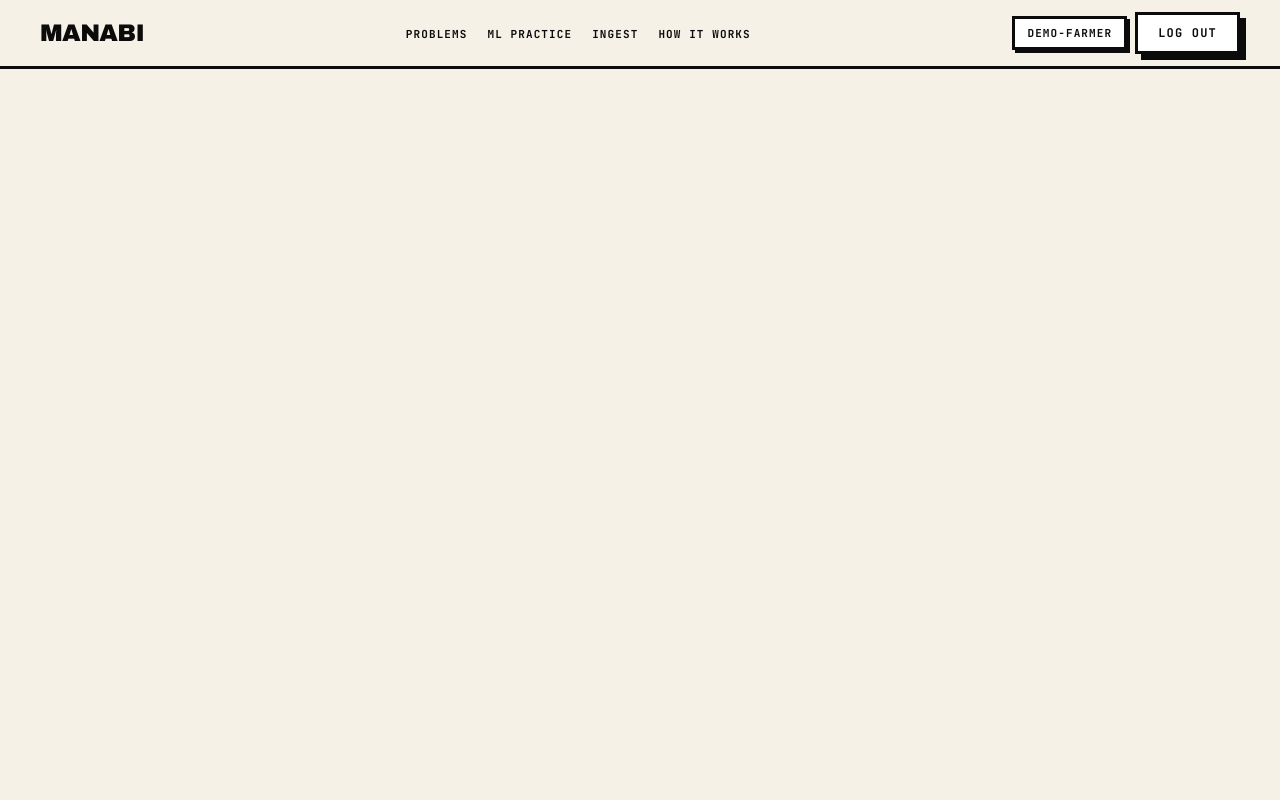
Test: Nav › shows an error toast when logout fails
Click the button "Log out": (1188, 33) [1135,12,1240,54]
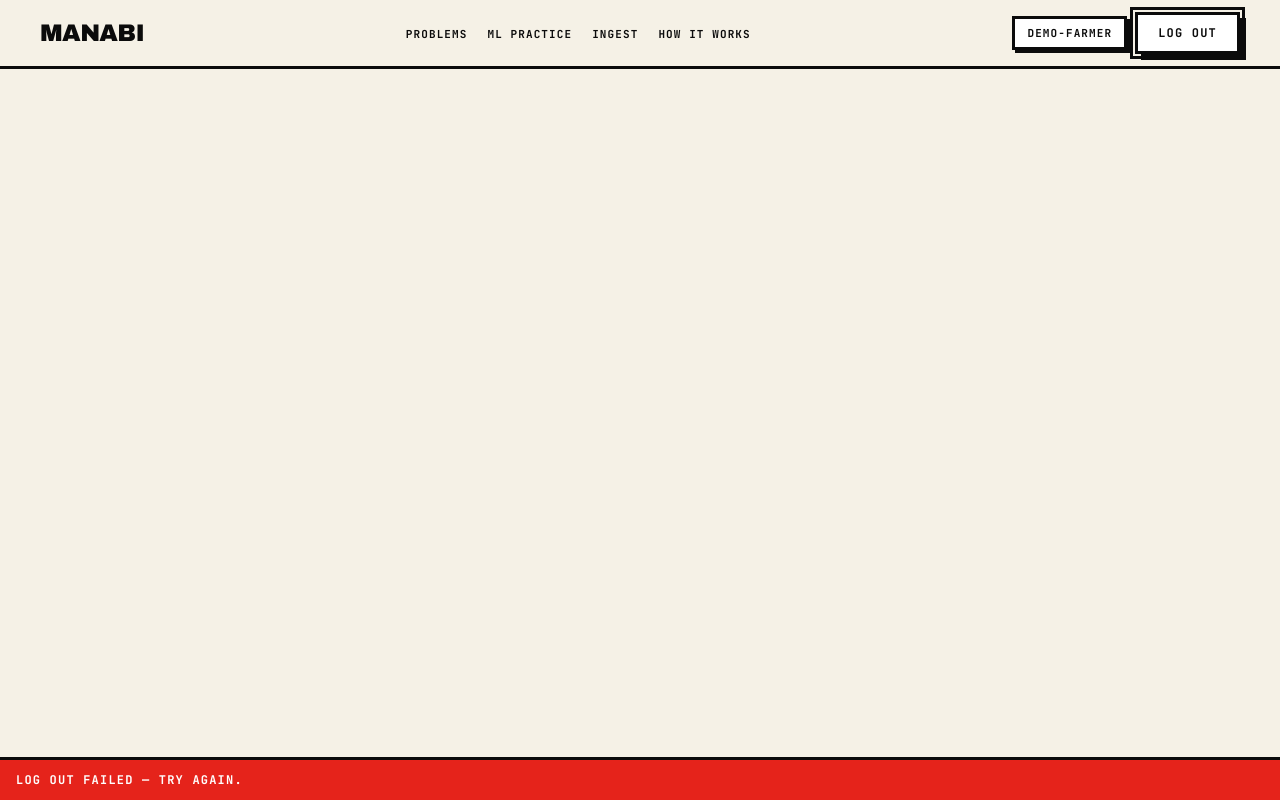
Result: the text "Log out failed — try again." is shown at [0,757,1279,799]
